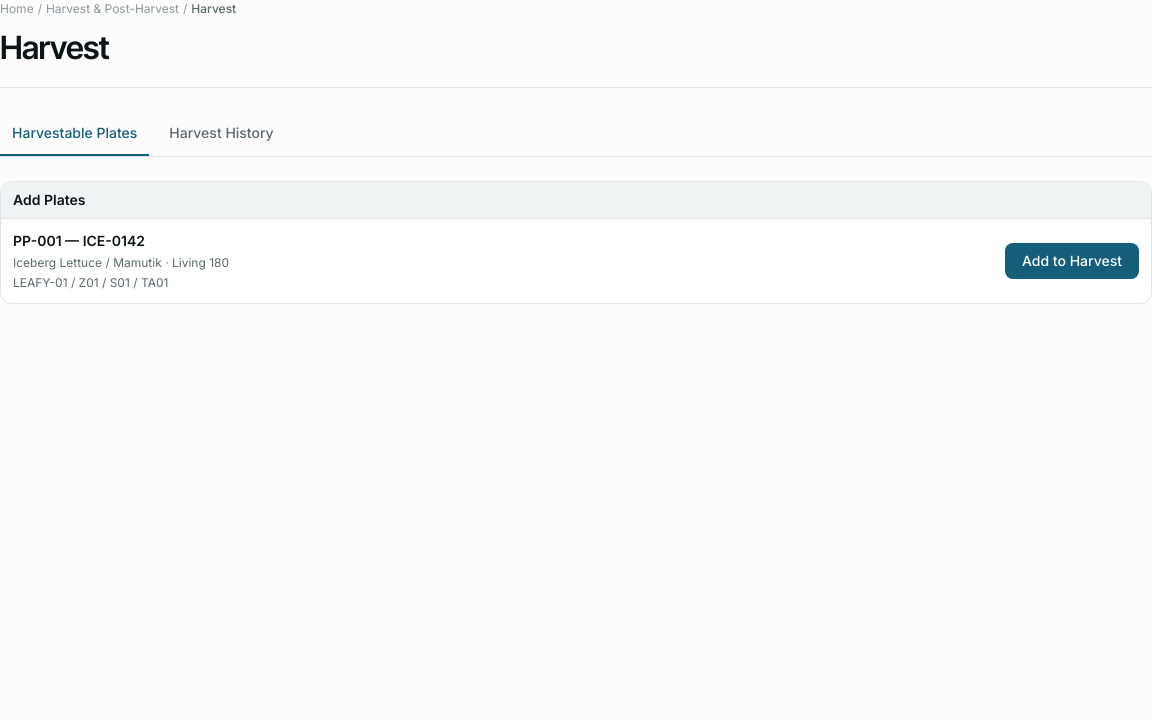
Test: LeafyHarvestPage › completes the full Record Harvest flow: configure -> review -> confirm -> success
Expected: the text "PP-001 — ICE-0142" is shown, [13, 232, 145, 249]
Click the button "Add to Harvest" at (1072, 261), box [1005, 243, 1139, 279]
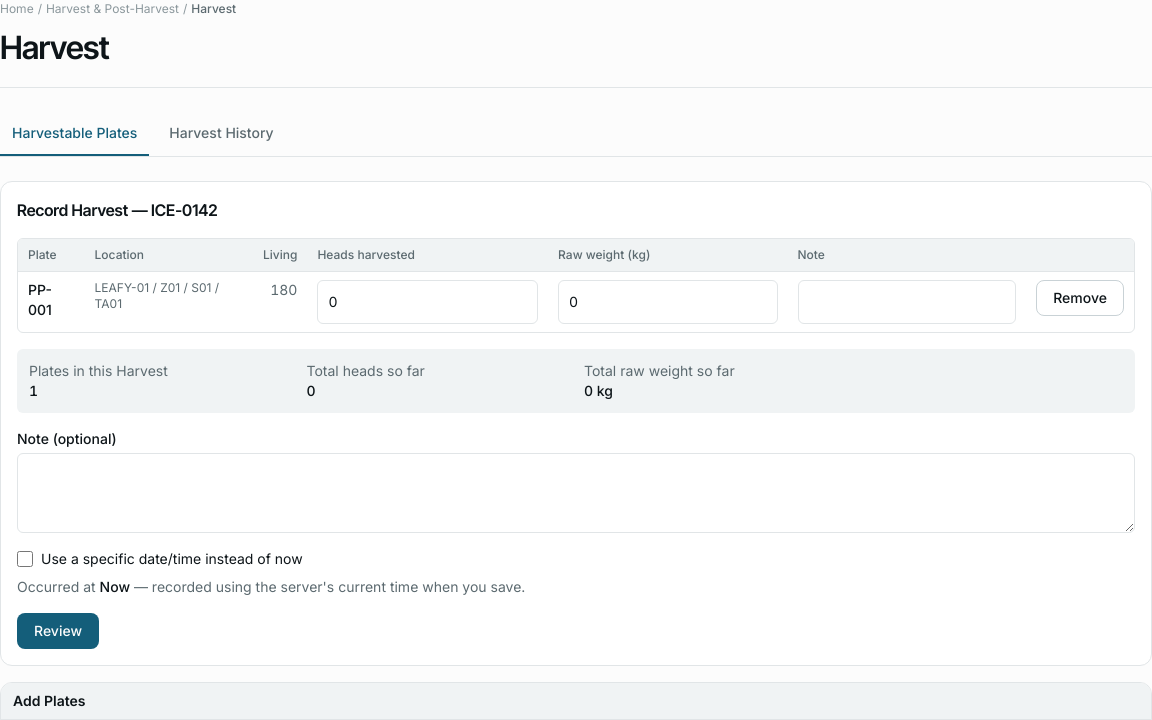
Expected: the number field named "heads harvested" is shown
Replace the text in the number field named "heads harvested" with "5" at (428, 302), box [317, 280, 538, 324]
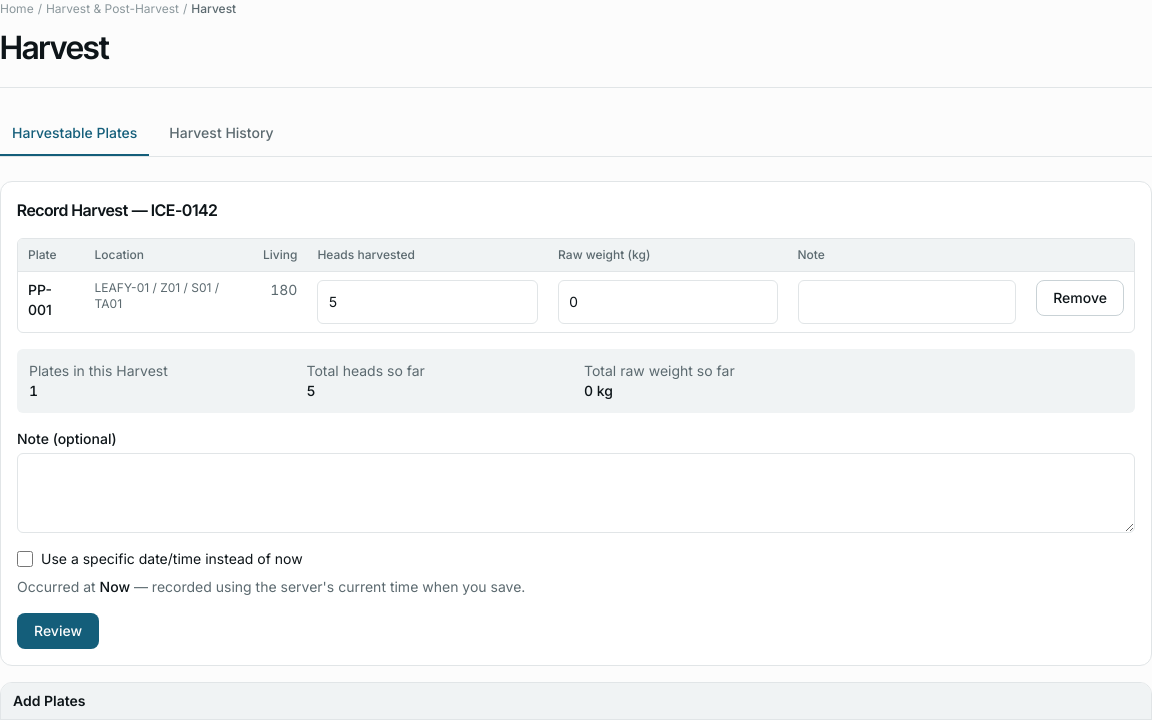
Replace the text in the number field named "raw harvested weight" with "2.5" at (668, 302), box [558, 280, 778, 324]
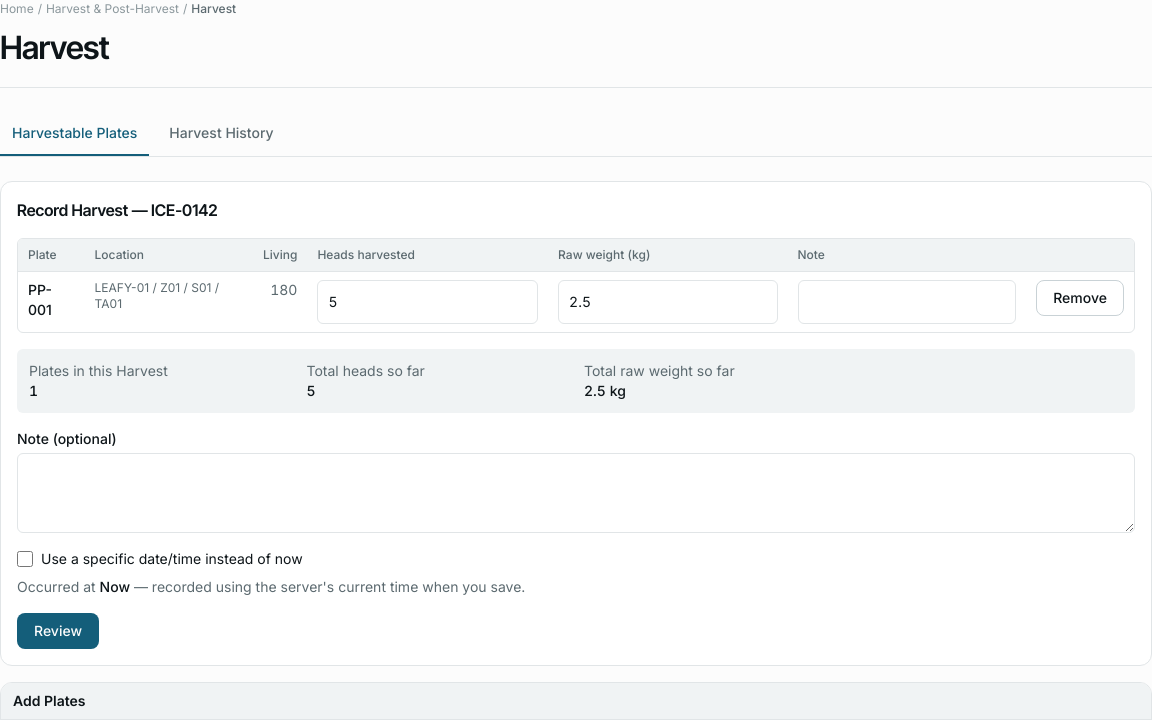
Click the button "Review" at (58, 631), box [17, 613, 99, 649]
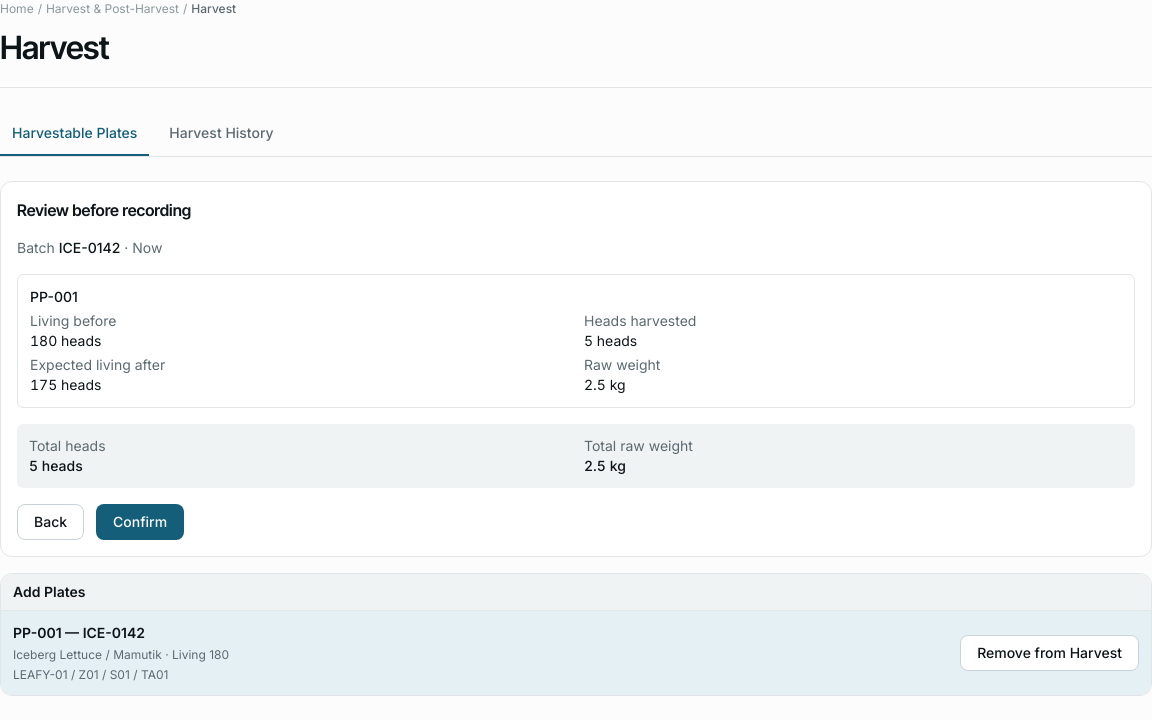
Expected: the heading "Review before recording" is shown, [17, 200, 191, 220]
Click the button "Confirm" at (140, 522), box [96, 504, 184, 540]
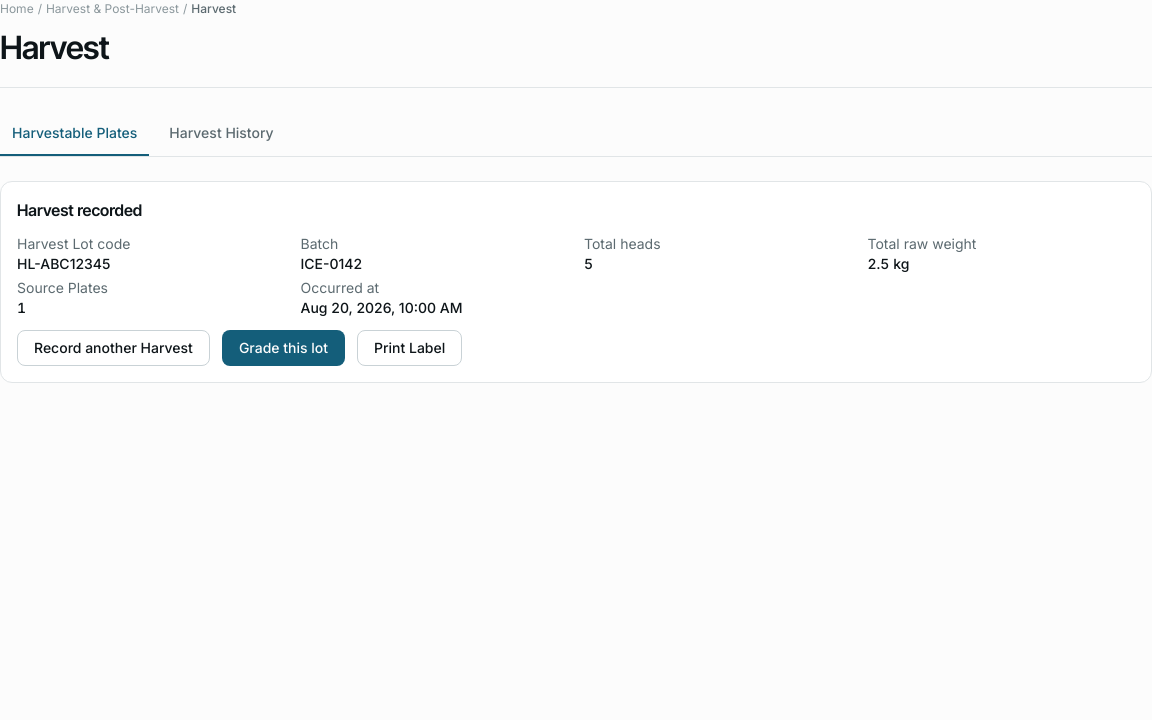
Expected: the heading "Harvest recorded" is shown, [17, 200, 142, 220]
Expected: the text "HL-ABC12345" is shown, [17, 255, 110, 272]
